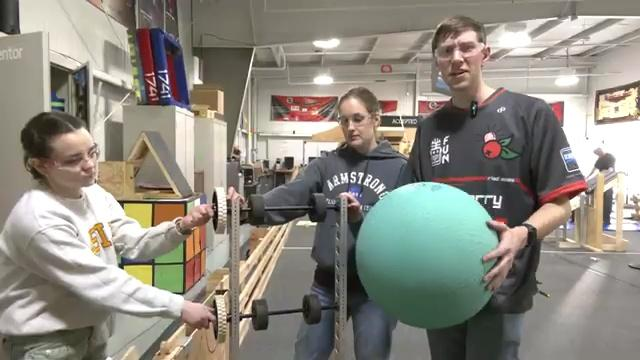ALGAE: (354, 180, 501, 330)
